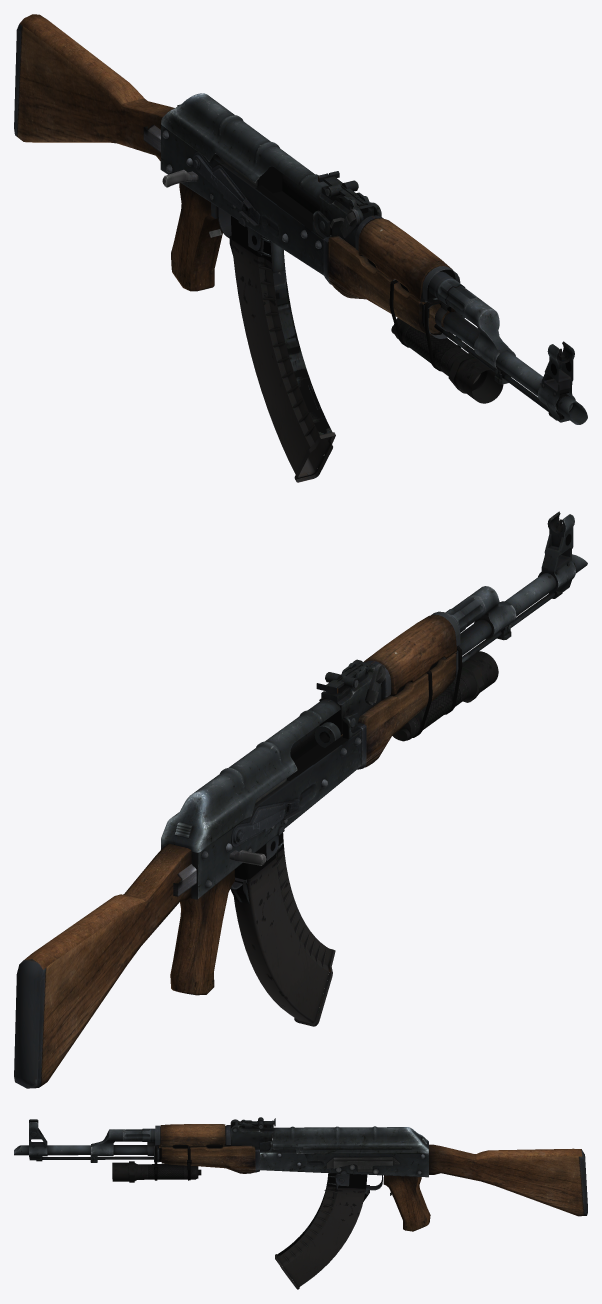
Rendered from ak47-viewmodel.obj.
The picture shows the model from 3 angles, top to bottom: view 1: azimuth 30°, elevation 25°; view 2: azimuth 150°, elevation 25°; view 3: azimuth 270°, elevation 25°; orthographic projection. The views are drawn at different scales.
Parts seen in each view (by area): view 1: rdmobj00.001; view 2: rdmobj00.001; view 3: rdmobj00.001.
Boxes of the visible parts, bbox=[...] form: rdmobj00.001: bbox=[14, 14, 587, 482]; rdmobj00.001: bbox=[14, 511, 587, 1088]; rdmobj00.001: bbox=[14, 1117, 587, 1289].
Size of the model in its own units: 3.84 by 14.73 by 45.82.
1 material, 1 textured.
